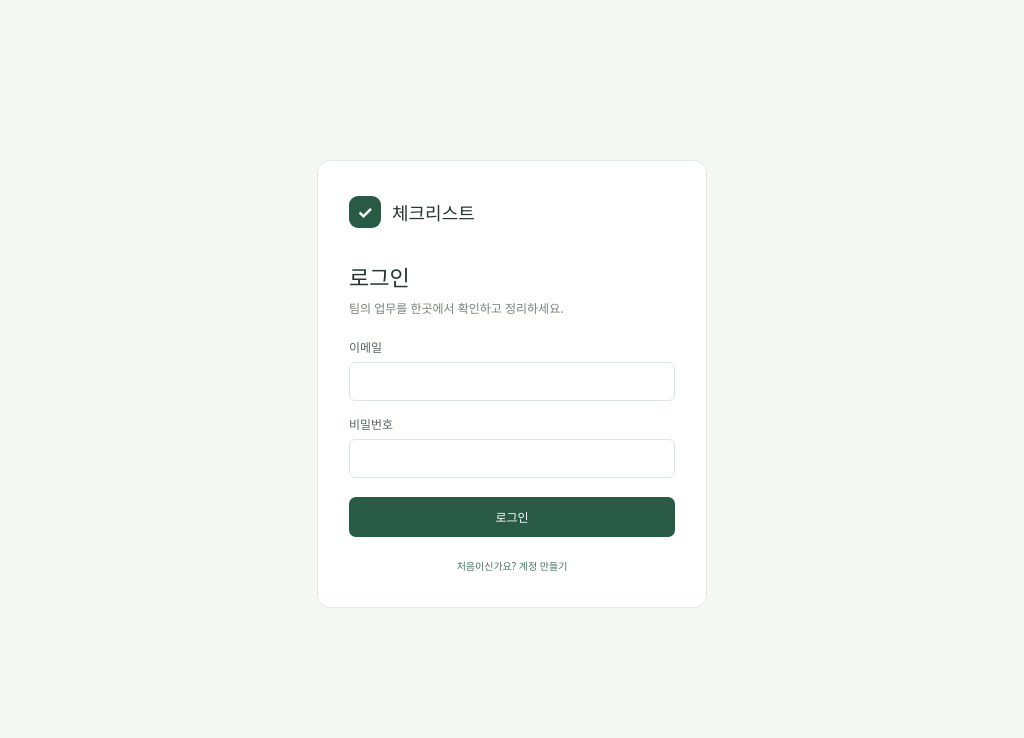
Test: 체크리스트 사용자 흐름 › 권한 없는 항목은 수정 동작을 숨기고 완료 동작을 비활성화한다
This screenshot has width=1024, height=738.
Type "minji@example.com" into the field labelled "이메일" at (512,382), box [349,362,675,401]
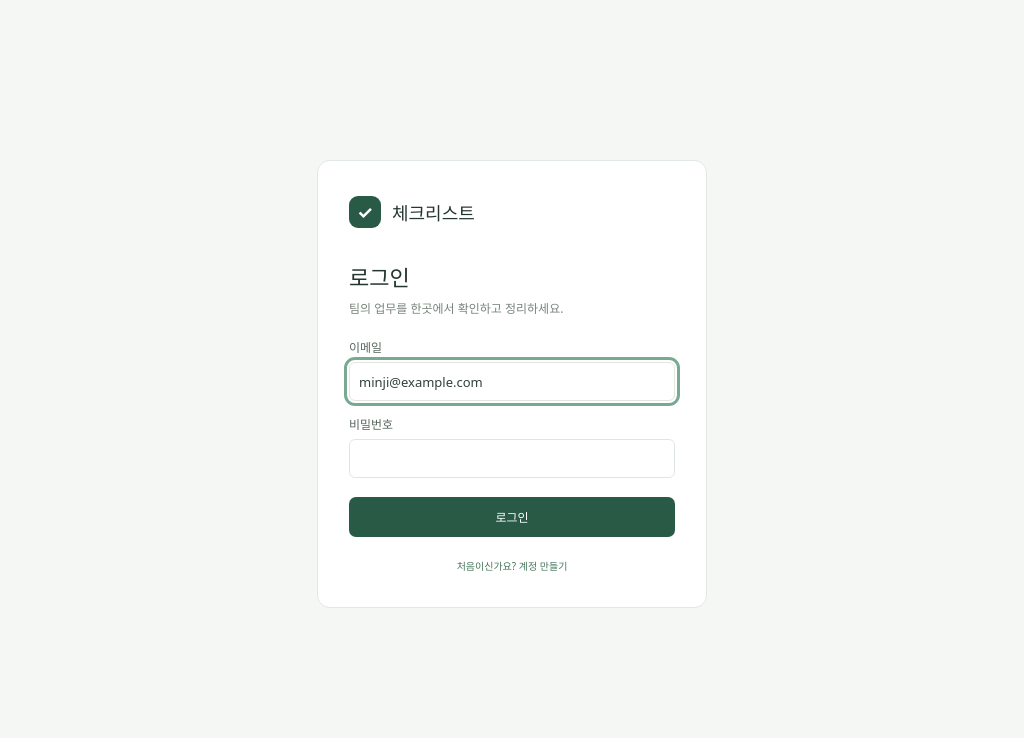
Type "secure-pass-1" into the password field labelled "비밀번호" at (512,458), box [349,439,675,478]
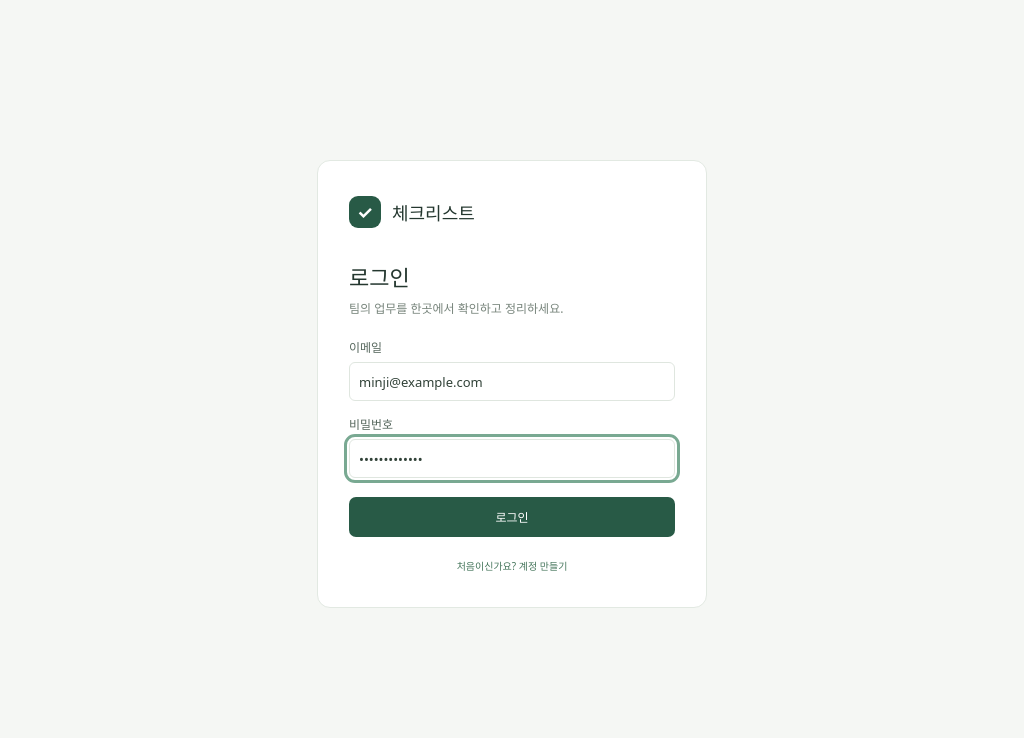
Click the button "로그인" at (512,517), box [349,497,675,537]
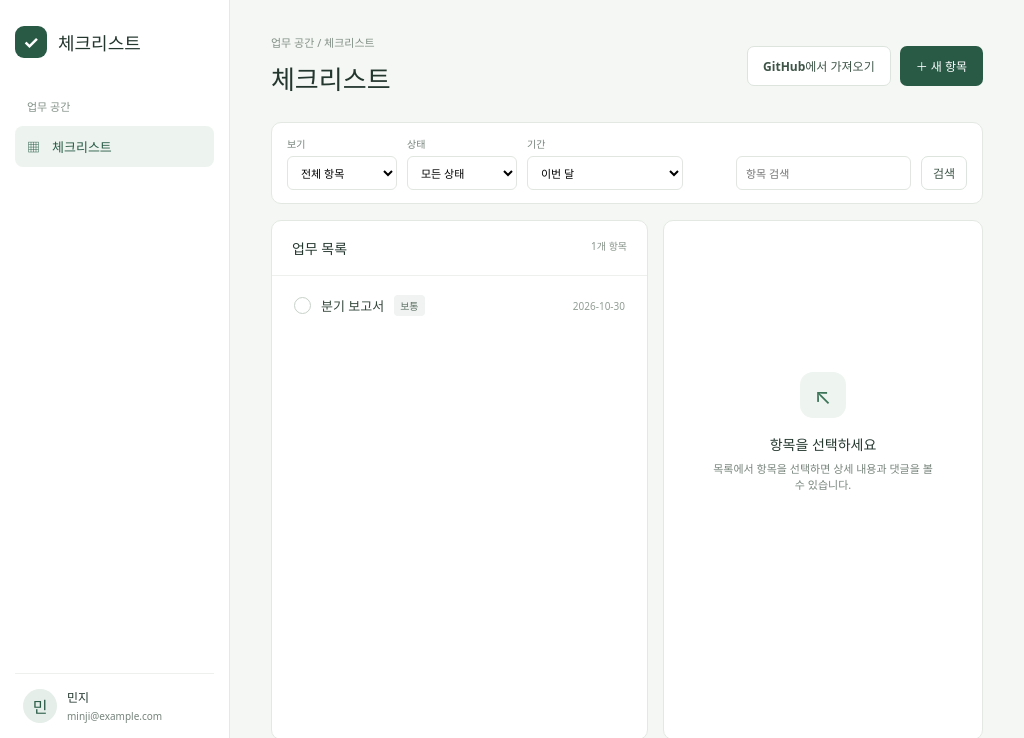
Click the button "분기 보고서 보통 2026-10-30" at (353,306), box [286,287,633,324]
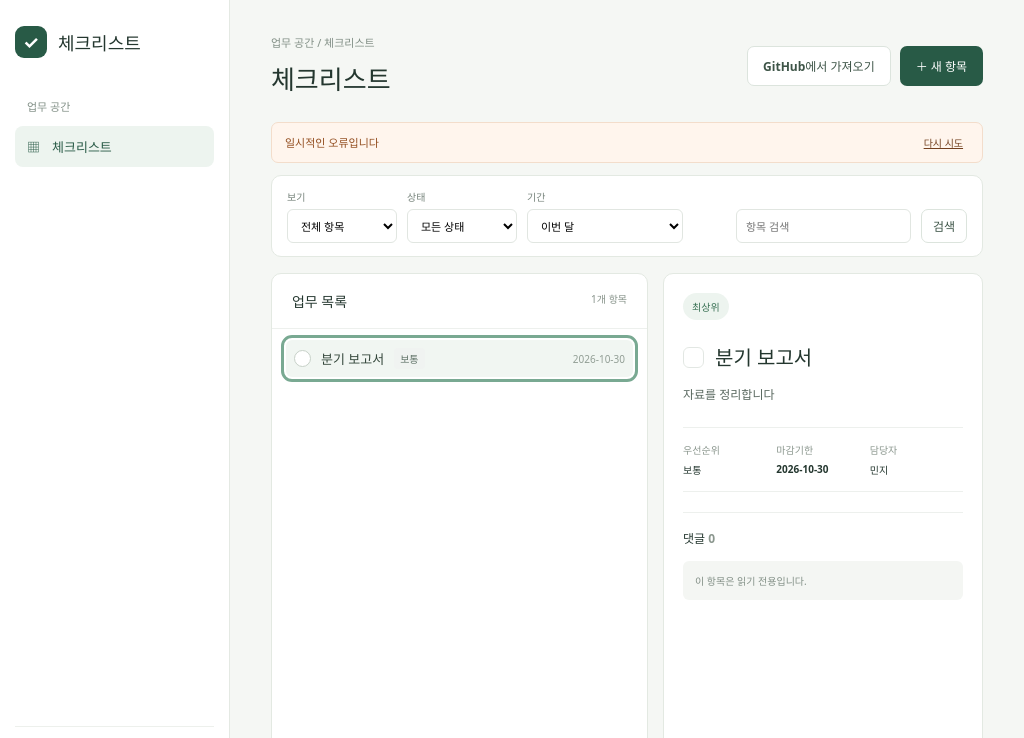
Result: the button named "완료로 표시" is disabled at [683,347,704,368]
